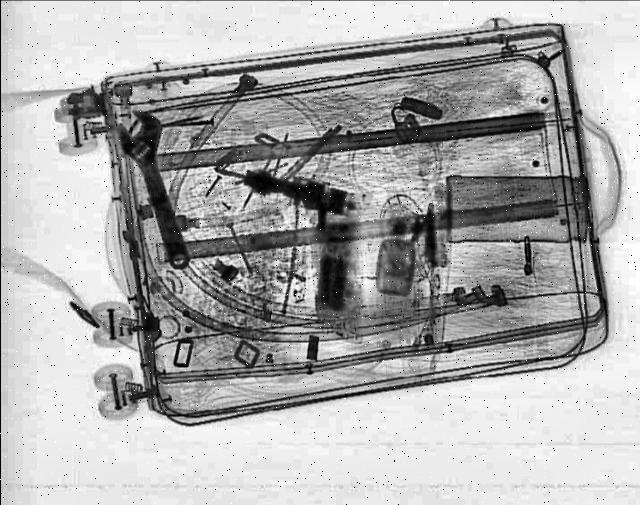Wrench: (106, 107, 217, 271)
